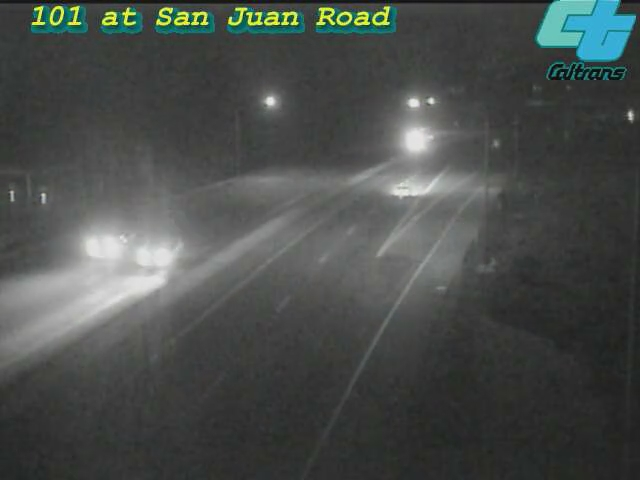vehicle: (57, 211, 137, 291), (106, 218, 186, 298), (364, 149, 444, 229), (390, 115, 440, 165)
